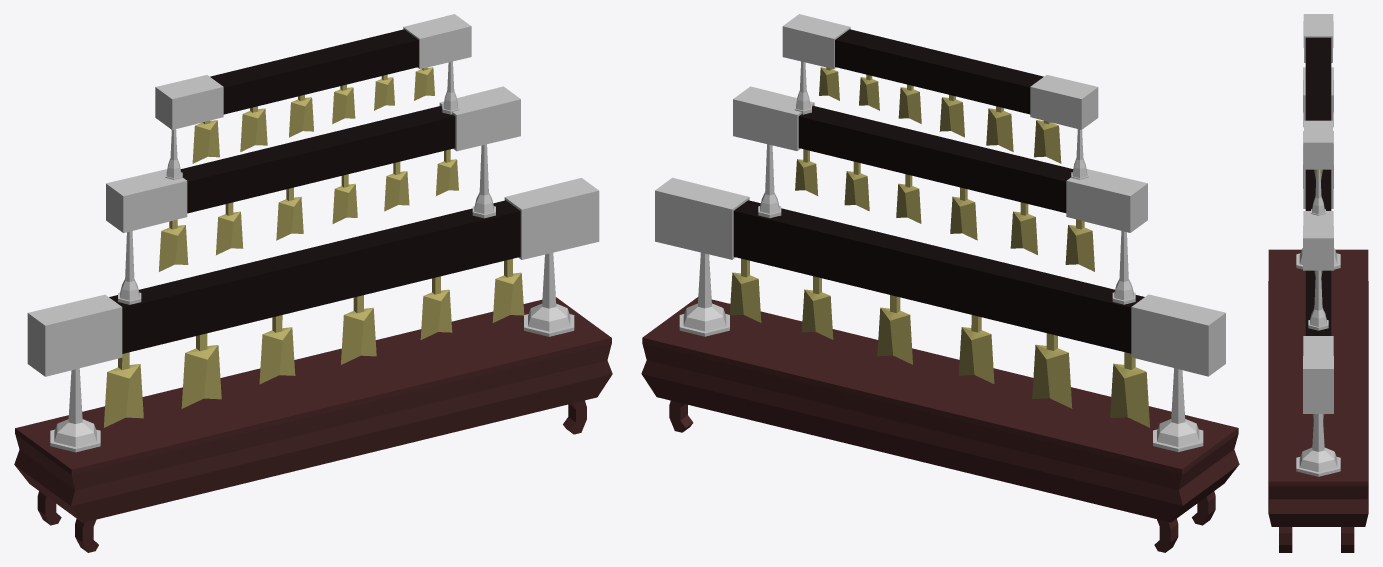
The picture shows the model from 3 angles, left to right: view 1: azimuth 30°, elevation 25°; view 2: azimuth 150°, elevation 25°; view 3: azimuth 270°, elevation 25°; orthographic projection. The views are drawn at different scales.
Parts seen in each view (by area): view 1: pSphere7; view 2: pSphere7; view 3: pSphere7.
Boxes of the visible parts, x1=… form: pSphere7: x1=14, y1=14, x2=612, y2=552; pSphere7: x1=641, y1=14, x2=1239, y2=552; pSphere7: x1=1268, y1=14, x2=1368, y2=552.
Bounding box in the file's own units: 263 × 190 × 46.66.
